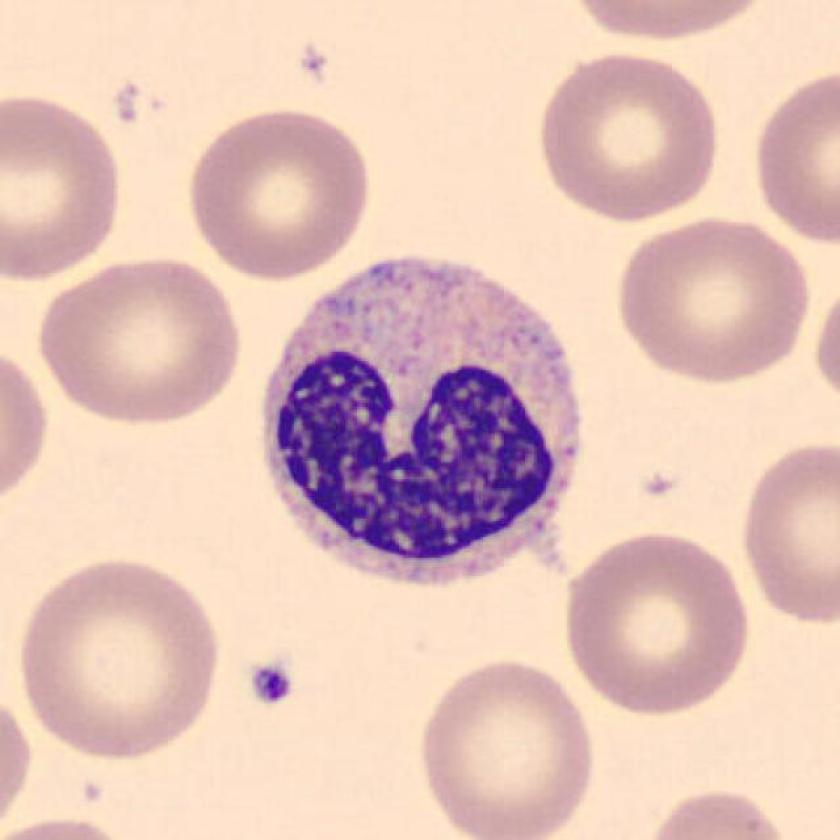neutrophil: (266, 256, 583, 584)
